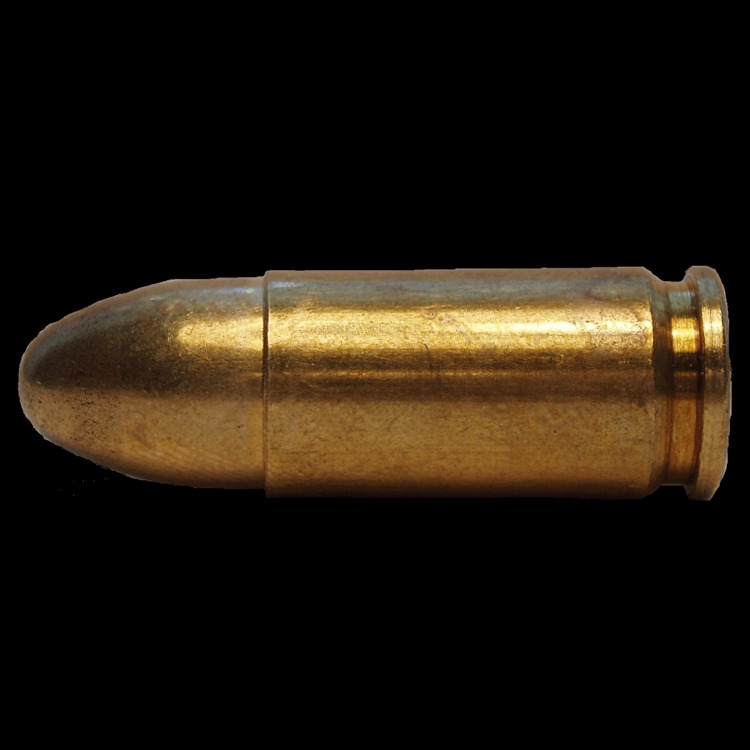bullet: (15, 250, 729, 507)
